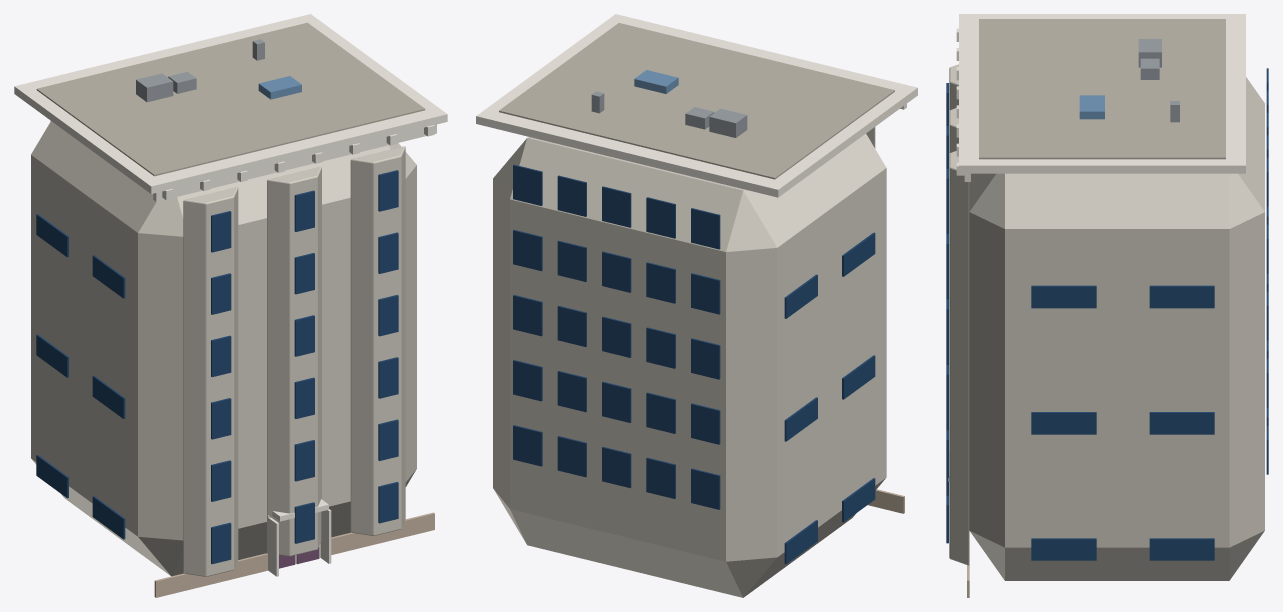
The model's file is apt_w16_f6_bays.glb.
3 views of the same model, side by side, from view 1: azimuth 30°, elevation 25°; view 2: azimuth 150°, elevation 25°; view 3: azimuth 270°, elevation 25° (orthographic). The views are drawn at different scales.
Visible parts, largest first — view 1: walls, roofslab, bay.002, bay, bay.001, corn, bsmt, frieze, hvac, bw.014, bw.016, bw.001 (+24 smaller); view 2: walls, roofslab, corn, win.012, win.014, win.020, win.021, win, win.001, win.003, win.004, win.005 (+25 smaller); view 3: walls, roofslab, corn, bay.002, sb.009, sb.011, sb.001, sb.003, sb.005, sb.007, skylt, hvac (+1 smaller).
Boxes of the visible parts, bbox=[...] form: walls: bbox=[31, 121, 416, 576]; roofslab: bbox=[36, 22, 425, 176]; bay.002: bbox=[350, 146, 405, 535]; bay: bbox=[183, 187, 238, 576]; bay.001: bbox=[267, 166, 321, 556]; corn: bbox=[14, 14, 447, 193]; bsmt: bbox=[154, 512, 434, 597]; frieze: bbox=[153, 124, 436, 201]; hvac: bbox=[136, 73, 173, 102]; bw.014: bbox=[378, 357, 398, 398]; bw.016: bbox=[378, 232, 398, 273]; bw.001: bbox=[211, 460, 231, 501]; walls: bbox=[493, 134, 886, 597]; roofslab: bbox=[499, 23, 894, 179]; corn: bbox=[476, 14, 917, 197]; win.012: bbox=[602, 316, 631, 357]; win.014: bbox=[513, 295, 542, 336]; win.020: bbox=[691, 208, 720, 249]; win.021: bbox=[646, 197, 675, 238]; win: bbox=[691, 468, 720, 509]; win.001: bbox=[646, 457, 675, 498]; win.003: bbox=[557, 436, 586, 477]; win.004: bbox=[513, 425, 542, 466]; win.005: bbox=[691, 403, 720, 444]; walls: bbox=[969, 77, 1264, 580]; roofslab: bbox=[979, 19, 1225, 159]; corn: bbox=[959, 14, 1245, 173]; bay.002: bbox=[949, 151, 969, 565]; sb.009: bbox=[1031, 285, 1096, 308]; sb.011: bbox=[1149, 285, 1214, 308]; sb.001: bbox=[1031, 538, 1096, 560]; sb.003: bbox=[1149, 538, 1214, 560]; sb.005: bbox=[1031, 412, 1096, 434]; sb.007: bbox=[1149, 412, 1214, 434]; skylt: bbox=[1079, 95, 1104, 119]; hvac: bbox=[1138, 39, 1161, 67].
Size of the model in its own units: 17 by 23.8 by 15.26.
